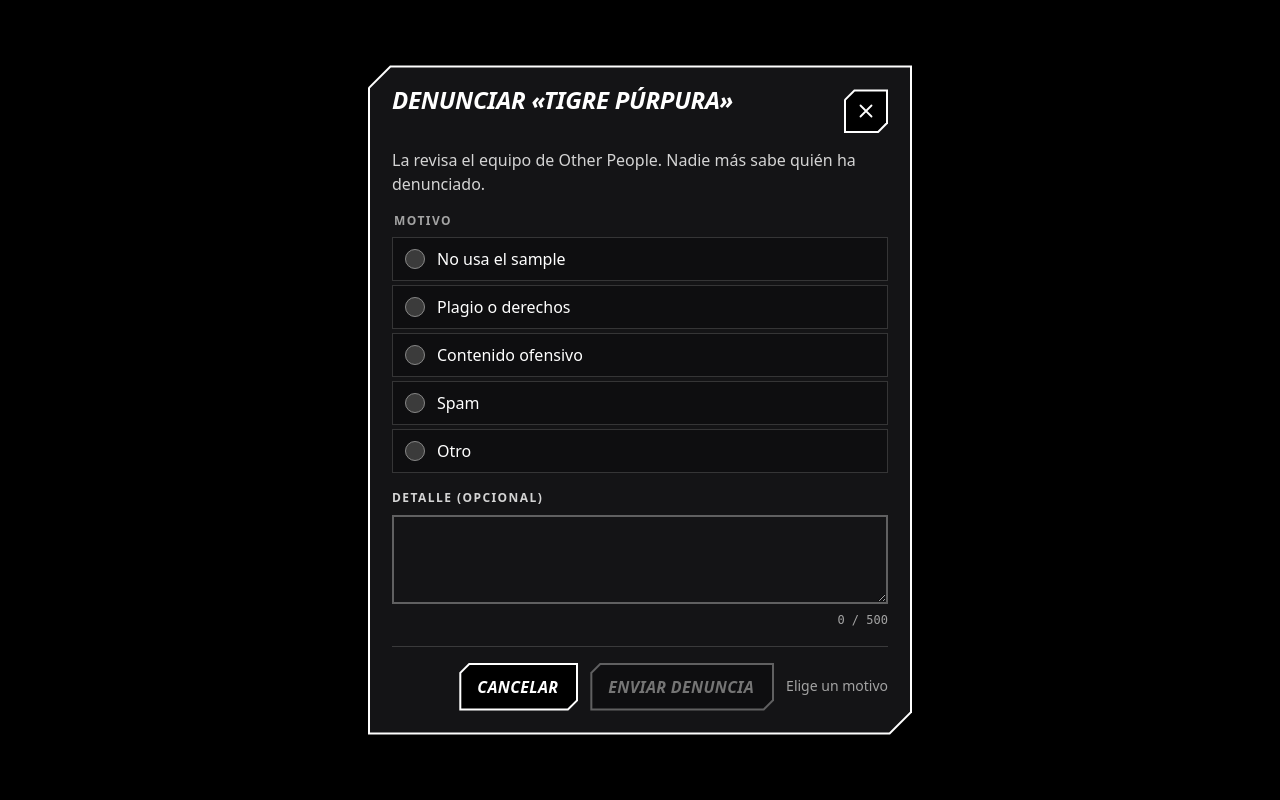
Scenario: denunciar (§2.7) › RF-VOTE-12: con el motivo y el detalle; sin motivo no se envía
Click the radio button labelled "Plagio o derechos" at (415, 307), box [405,297,425,317]
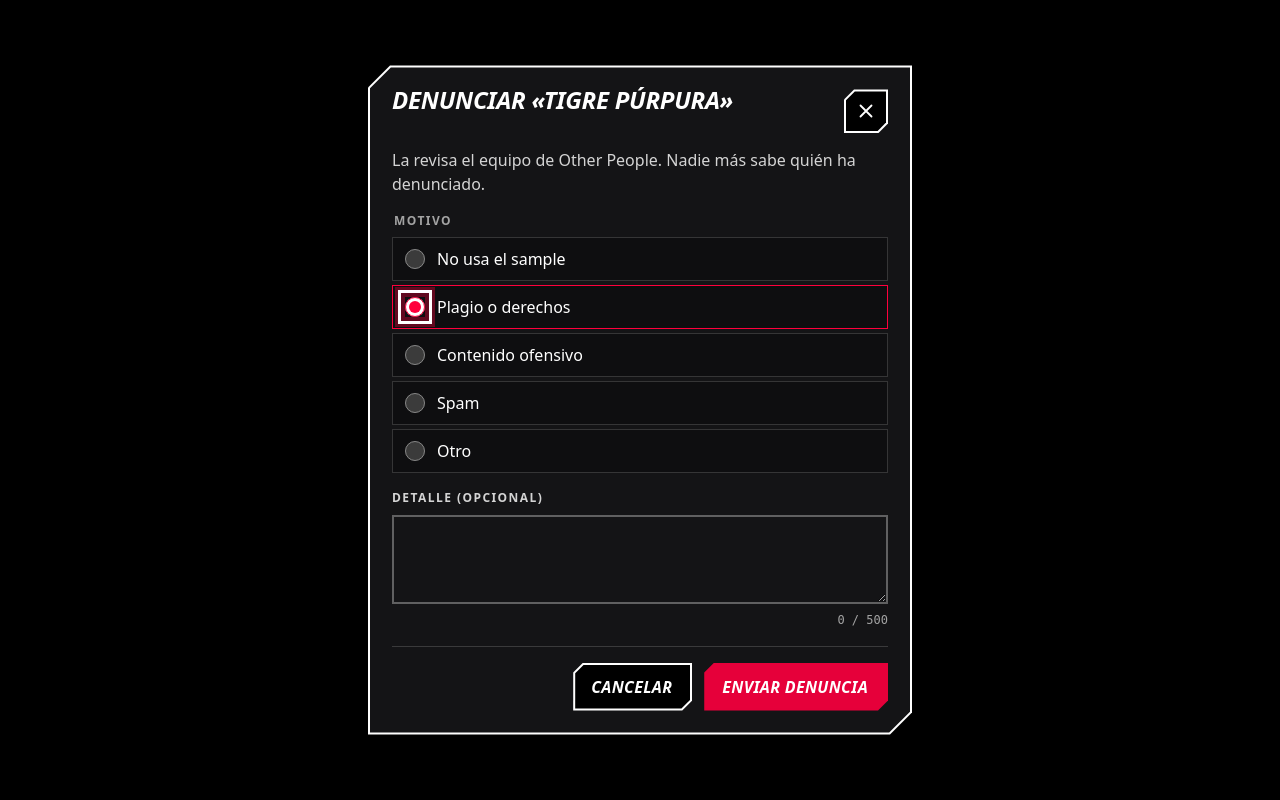
Type "Es de otro tema" into the text box labelled "Detalle (opcional)" at (640, 559), box [392,515,888,604]
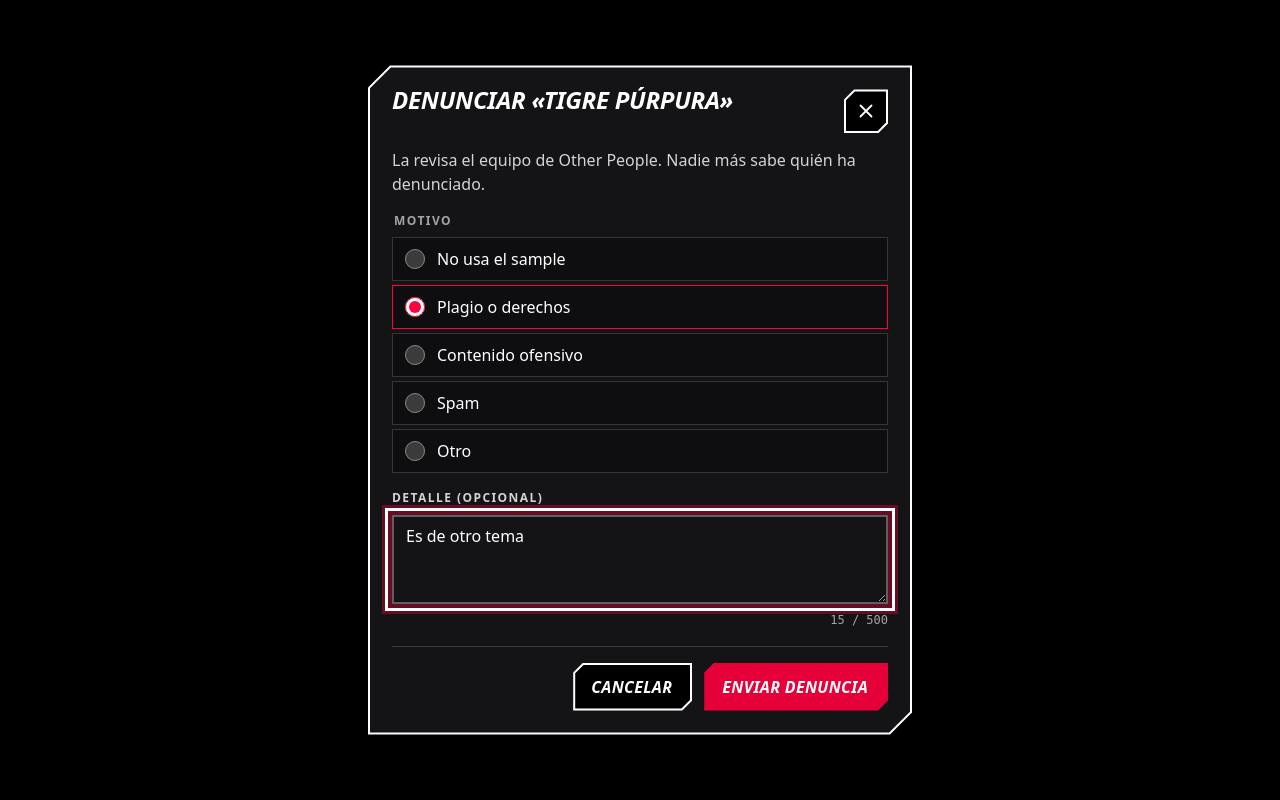
Click the button "Enviar denuncia" at (796, 686), box [704,662,888,710]
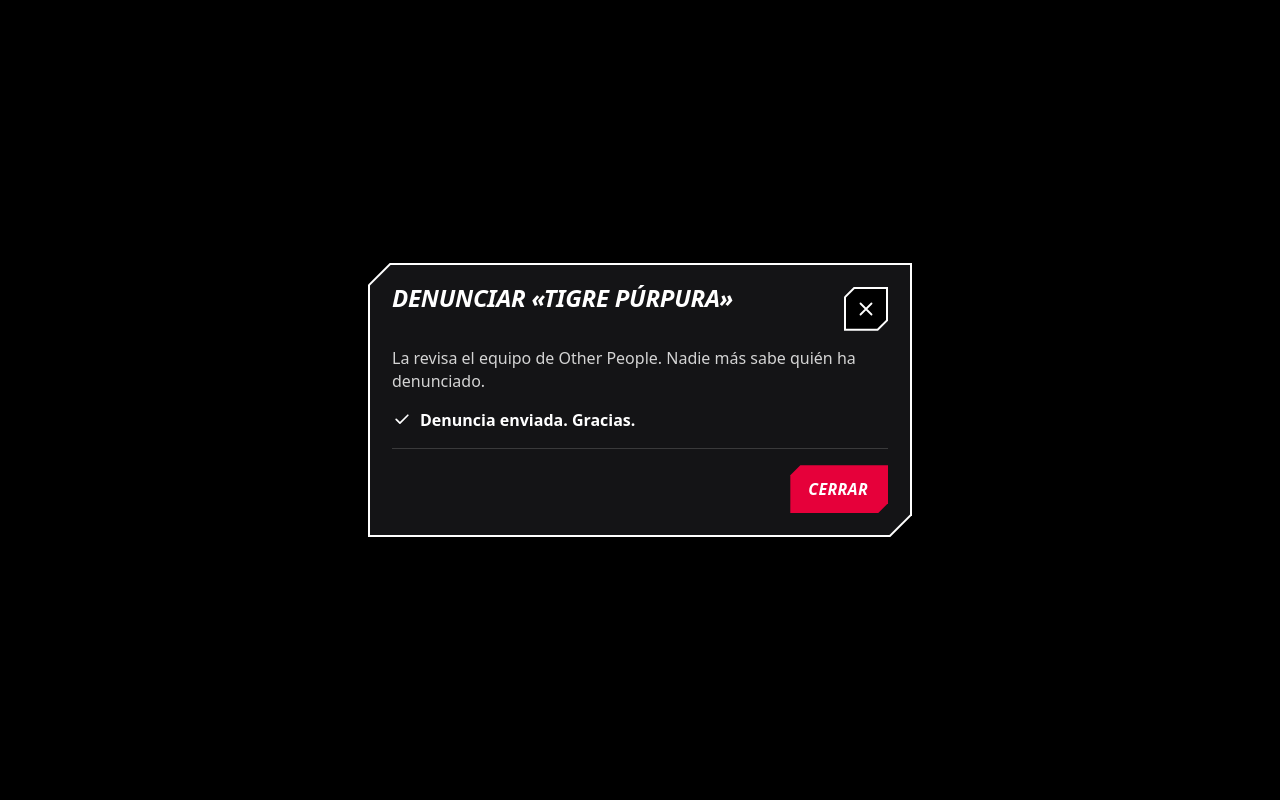
Check: the text "Denuncia enviada. Gracias." is shown, box [420,409,635,432]
